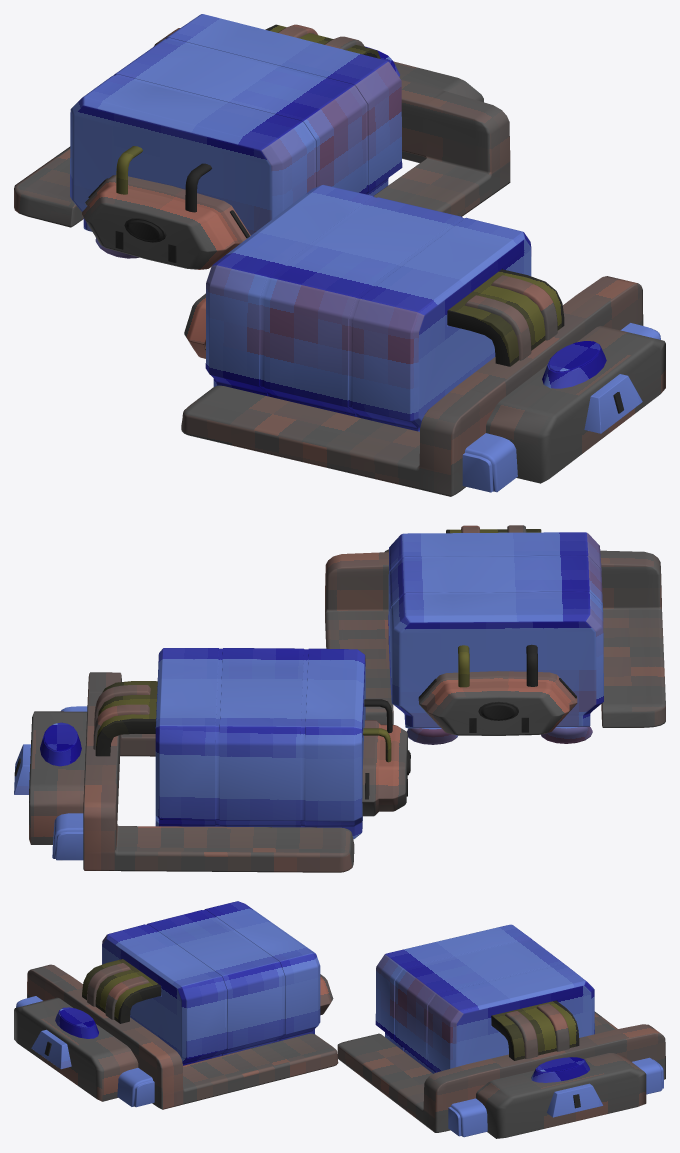
File: mars_livupgrade.glb
3 views of the same model, one above another, from view 1: azimuth 30°, elevation 25°; view 2: azimuth 150°, elevation 25°; view 3: azimuth 270°, elevation 25° (orthographic). The views are drawn at different scales.
Visible parts, largest first — view 1: Transporter.002; view 2: Transporter.002; view 3: Transporter.002.
Part boxes in pixels (bbox=[...]): Transporter.002: bbox=[14, 14, 665, 496]; Transporter.002: bbox=[14, 525, 665, 872]; Transporter.002: bbox=[14, 901, 665, 1138].
Size of the model in its own units: 10.81 by 3.13 by 17.61.
Materials: 2 (2 with a texture image).
